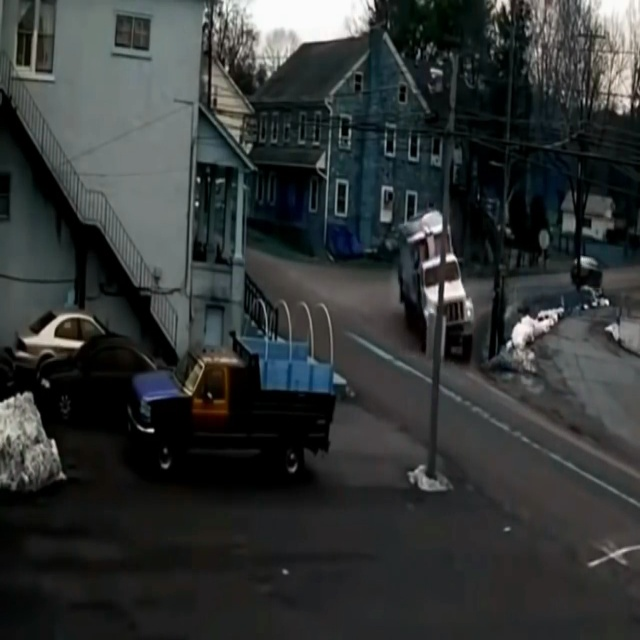acc: (383, 209, 485, 358)
